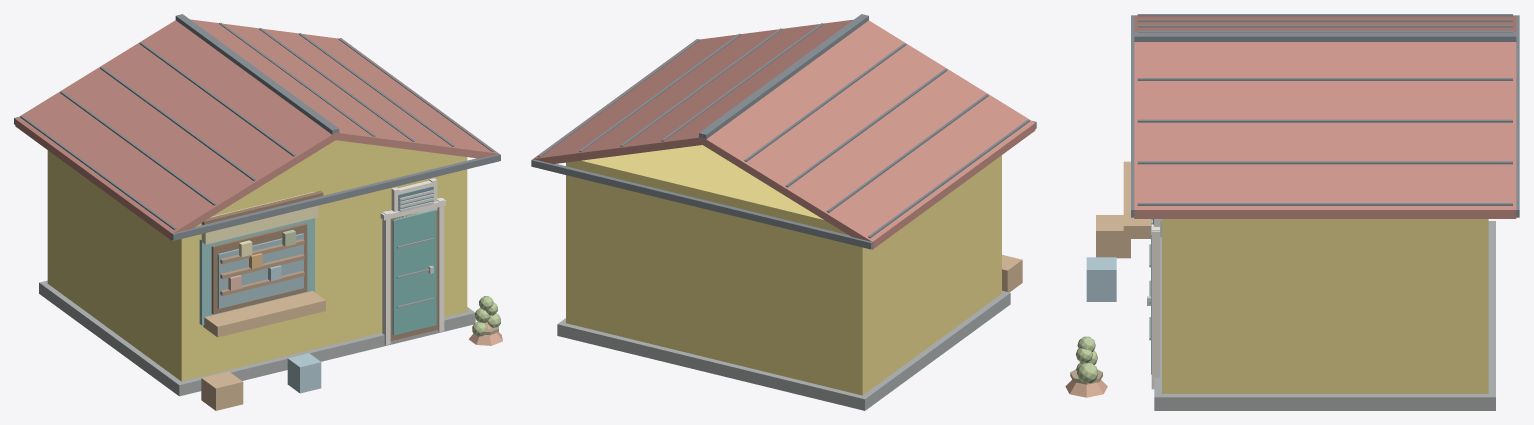
File: 06_Sari_Sari_Store_House.fbx
The picture shows the model from 3 angles, left to right: view 1: azimuth 30°, elevation 25°; view 2: azimuth 150°, elevation 25°; view 3: azimuth 270°, elevation 25°; orthographic projection. The views are drawn at different scales.
Parts seen in each view (by area): view 1: H06_002_MainWalls, H06_036_RedMetalRoof_LeftSlope, H06_037_RedMetalRoof_RightSlope, H06_035_StoreGable, H06_001_FoundationSlab, H06_018_FamilyDoor_DoorLeaf, H06_038_RedMetalRoof_FrontFascia, H06_005_StoreDisplayPane, H06_006_StoreCounter, H06_003_StoreAccentPanel, H06_040_RedMetalRoof_RidgeCap, H06_004_StoreOpening (+18 smaller); view 2: H06_002_MainWalls, H06_036_RedMetalRoof_LeftSlope, H06_037_RedMetalRoof_RightSlope, H06_001_FoundationSlab, H06_039_RedMetalRoof_BackFascia, H06_040_RedMetalRoof_RidgeCap, H06_041_RedMetalRoof_Rib01, H06_042_RedMetalRoof_Rib02, H06_043_RedMetalRoof_Rib03, H06_044_RedMetalRoof_Rib04, H06_066_StoreCrate, H06_046_RedMetalRoof_Rib06 (+3 smaller); view 3: H06_037_RedMetalRoof_RightSlope, H06_002_MainWalls, H06_001_FoundationSlab, H06_036_RedMetalRoof_LeftSlope, H06_040_RedMetalRoof_RidgeCap, H06_047_RedMetalRoof_Rib07, H06_048_RedMetalRoof_Rib08, H06_065_PlasticStool, H06_066_StoreCrate, H06_020_FamilyDoor_JambR, H06_046_RedMetalRoof_Rib06, H06_049_RedMetalRoof_Rib09 (+8 smaller).
Part boxes in pixels (x1,y1,x2,y2): H06_002_MainWalls: [47, 150, 467, 381]; H06_036_RedMetalRoof_LeftSlope: [15, 20, 335, 240]; H06_037_RedMetalRoof_RightSlope: [190, 19, 498, 158]; H06_035_StoreGable: [217, 140, 454, 213]; H06_001_FoundationSlab: [39, 280, 475, 396]; H06_018_FamilyDoor_DoorLeaf: [392, 209, 436, 335]; H06_038_RedMetalRoof_FrontFascia: [171, 154, 500, 240]; H06_005_StoreDisplayPane: [217, 233, 303, 308]; H06_006_StoreCounter: [203, 291, 325, 337]; H06_003_StoreAccentPanel: [199, 218, 314, 325]; H06_040_RedMetalRoof_RidgeCap: [175, 14, 339, 134]; H06_004_StoreOpening: [211, 223, 307, 314]; H06_002_MainWalls: [566, 145, 1001, 395]; H06_036_RedMetalRoof_LeftSlope: [702, 20, 1035, 249]; H06_037_RedMetalRoof_RightSlope: [533, 19, 853, 164]; H06_001_FoundationSlab: [557, 290, 1010, 410]; H06_039_RedMetalRoof_BackFascia: [531, 159, 873, 249]; H06_040_RedMetalRoof_RidgeCap: [699, 14, 868, 139]; H06_041_RedMetalRoof_Rib01: [868, 119, 1029, 238]; H06_042_RedMetalRoof_Rib02: [826, 94, 988, 212]; H06_043_RedMetalRoof_Rib03: [785, 68, 947, 187]; H06_044_RedMetalRoof_Rib04: [744, 43, 906, 161]; H06_066_StoreCrate: [1002, 254, 1022, 292]; H06_046_RedMetalRoof_Rib06: [661, 23, 823, 141]; H06_037_RedMetalRoof_RightSlope: [1134, 42, 1516, 218]; H06_002_MainWalls: [1162, 219, 1488, 393]; H06_001_FoundationSlab: [1154, 221, 1495, 410]; H06_036_RedMetalRoof_LeftSlope: [1134, 15, 1516, 32]; H06_040_RedMetalRoof_RidgeCap: [1134, 32, 1516, 41]; H06_047_RedMetalRoof_Rib07: [1137, 119, 1512, 122]; H06_048_RedMetalRoof_Rib08: [1137, 161, 1512, 164]; H06_065_PlasticStool: [1086, 257, 1116, 301]; H06_066_StoreCrate: [1096, 215, 1130, 258]; H06_020_FamilyDoor_JambR: [1151, 227, 1159, 389]; H06_046_RedMetalRoof_Rib06: [1137, 78, 1512, 80]; H06_049_RedMetalRoof_Rib09: [1137, 203, 1512, 205].
Bounding box in the file's own units: 550 × 380 × 542.
